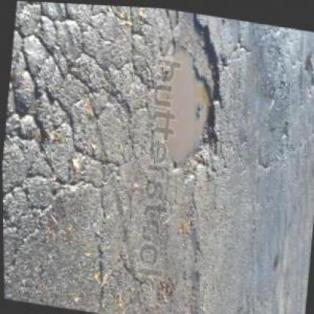Hueco: (144, 10, 235, 186), (299, 49, 314, 96)
